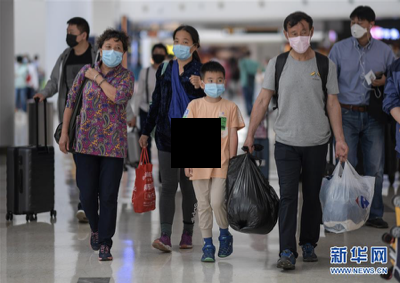with_mask: (289, 25, 312, 54), (101, 41, 124, 68), (173, 34, 193, 60), (204, 75, 225, 99), (350, 17, 368, 39), (66, 25, 82, 48), (152, 50, 167, 65)
